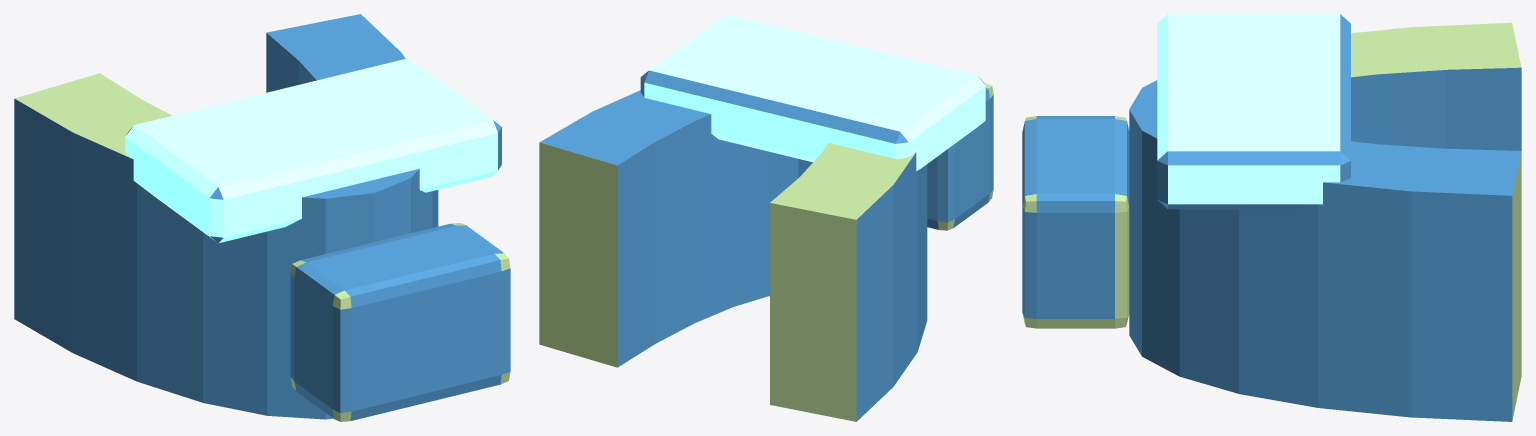
Rendered from right_hand.glb.
The picture shows the model from 3 angles, left to right: view 1: azimuth 30°, elevation 25°; view 2: azimuth 150°, elevation 25°; view 3: azimuth 270°, elevation 25°; orthographic projection. The views are drawn at different scales.
Parts seen in each view (by area): view 1: armor_right_hand_v001; view 2: armor_right_hand_v001; view 3: armor_right_hand_v001.
Boxes of the visible parts, x1,y1,x2,y2 form: armor_right_hand_v001: [14, 14, 510, 421]; armor_right_hand_v001: [539, 14, 993, 421]; armor_right_hand_v001: [1022, 14, 1521, 421].
Bounding box in the file's own units: 0.115 × 0.0783 × 0.14.
